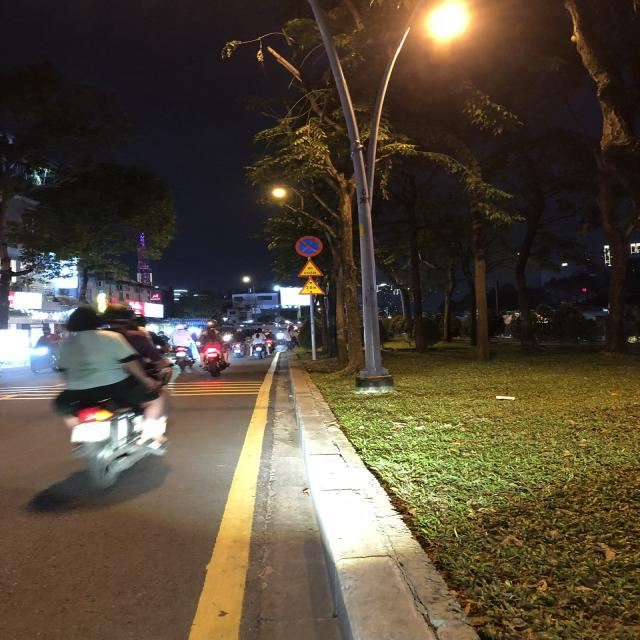Bien bao cam dung xe va do xe: (294, 234, 324, 259)
Bien bao chieu cao tinh khong thuc te: (298, 277, 327, 297)
Bien bao di cham: (296, 258, 325, 278)
